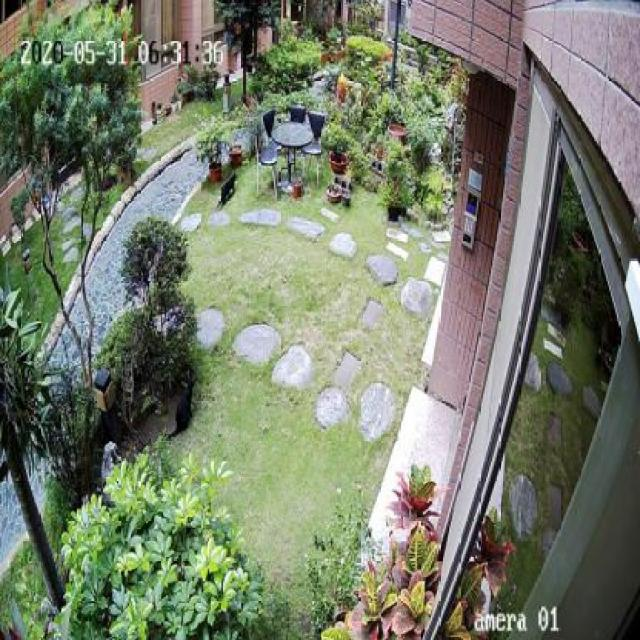animals: (168, 369, 203, 445), (215, 170, 240, 213)
